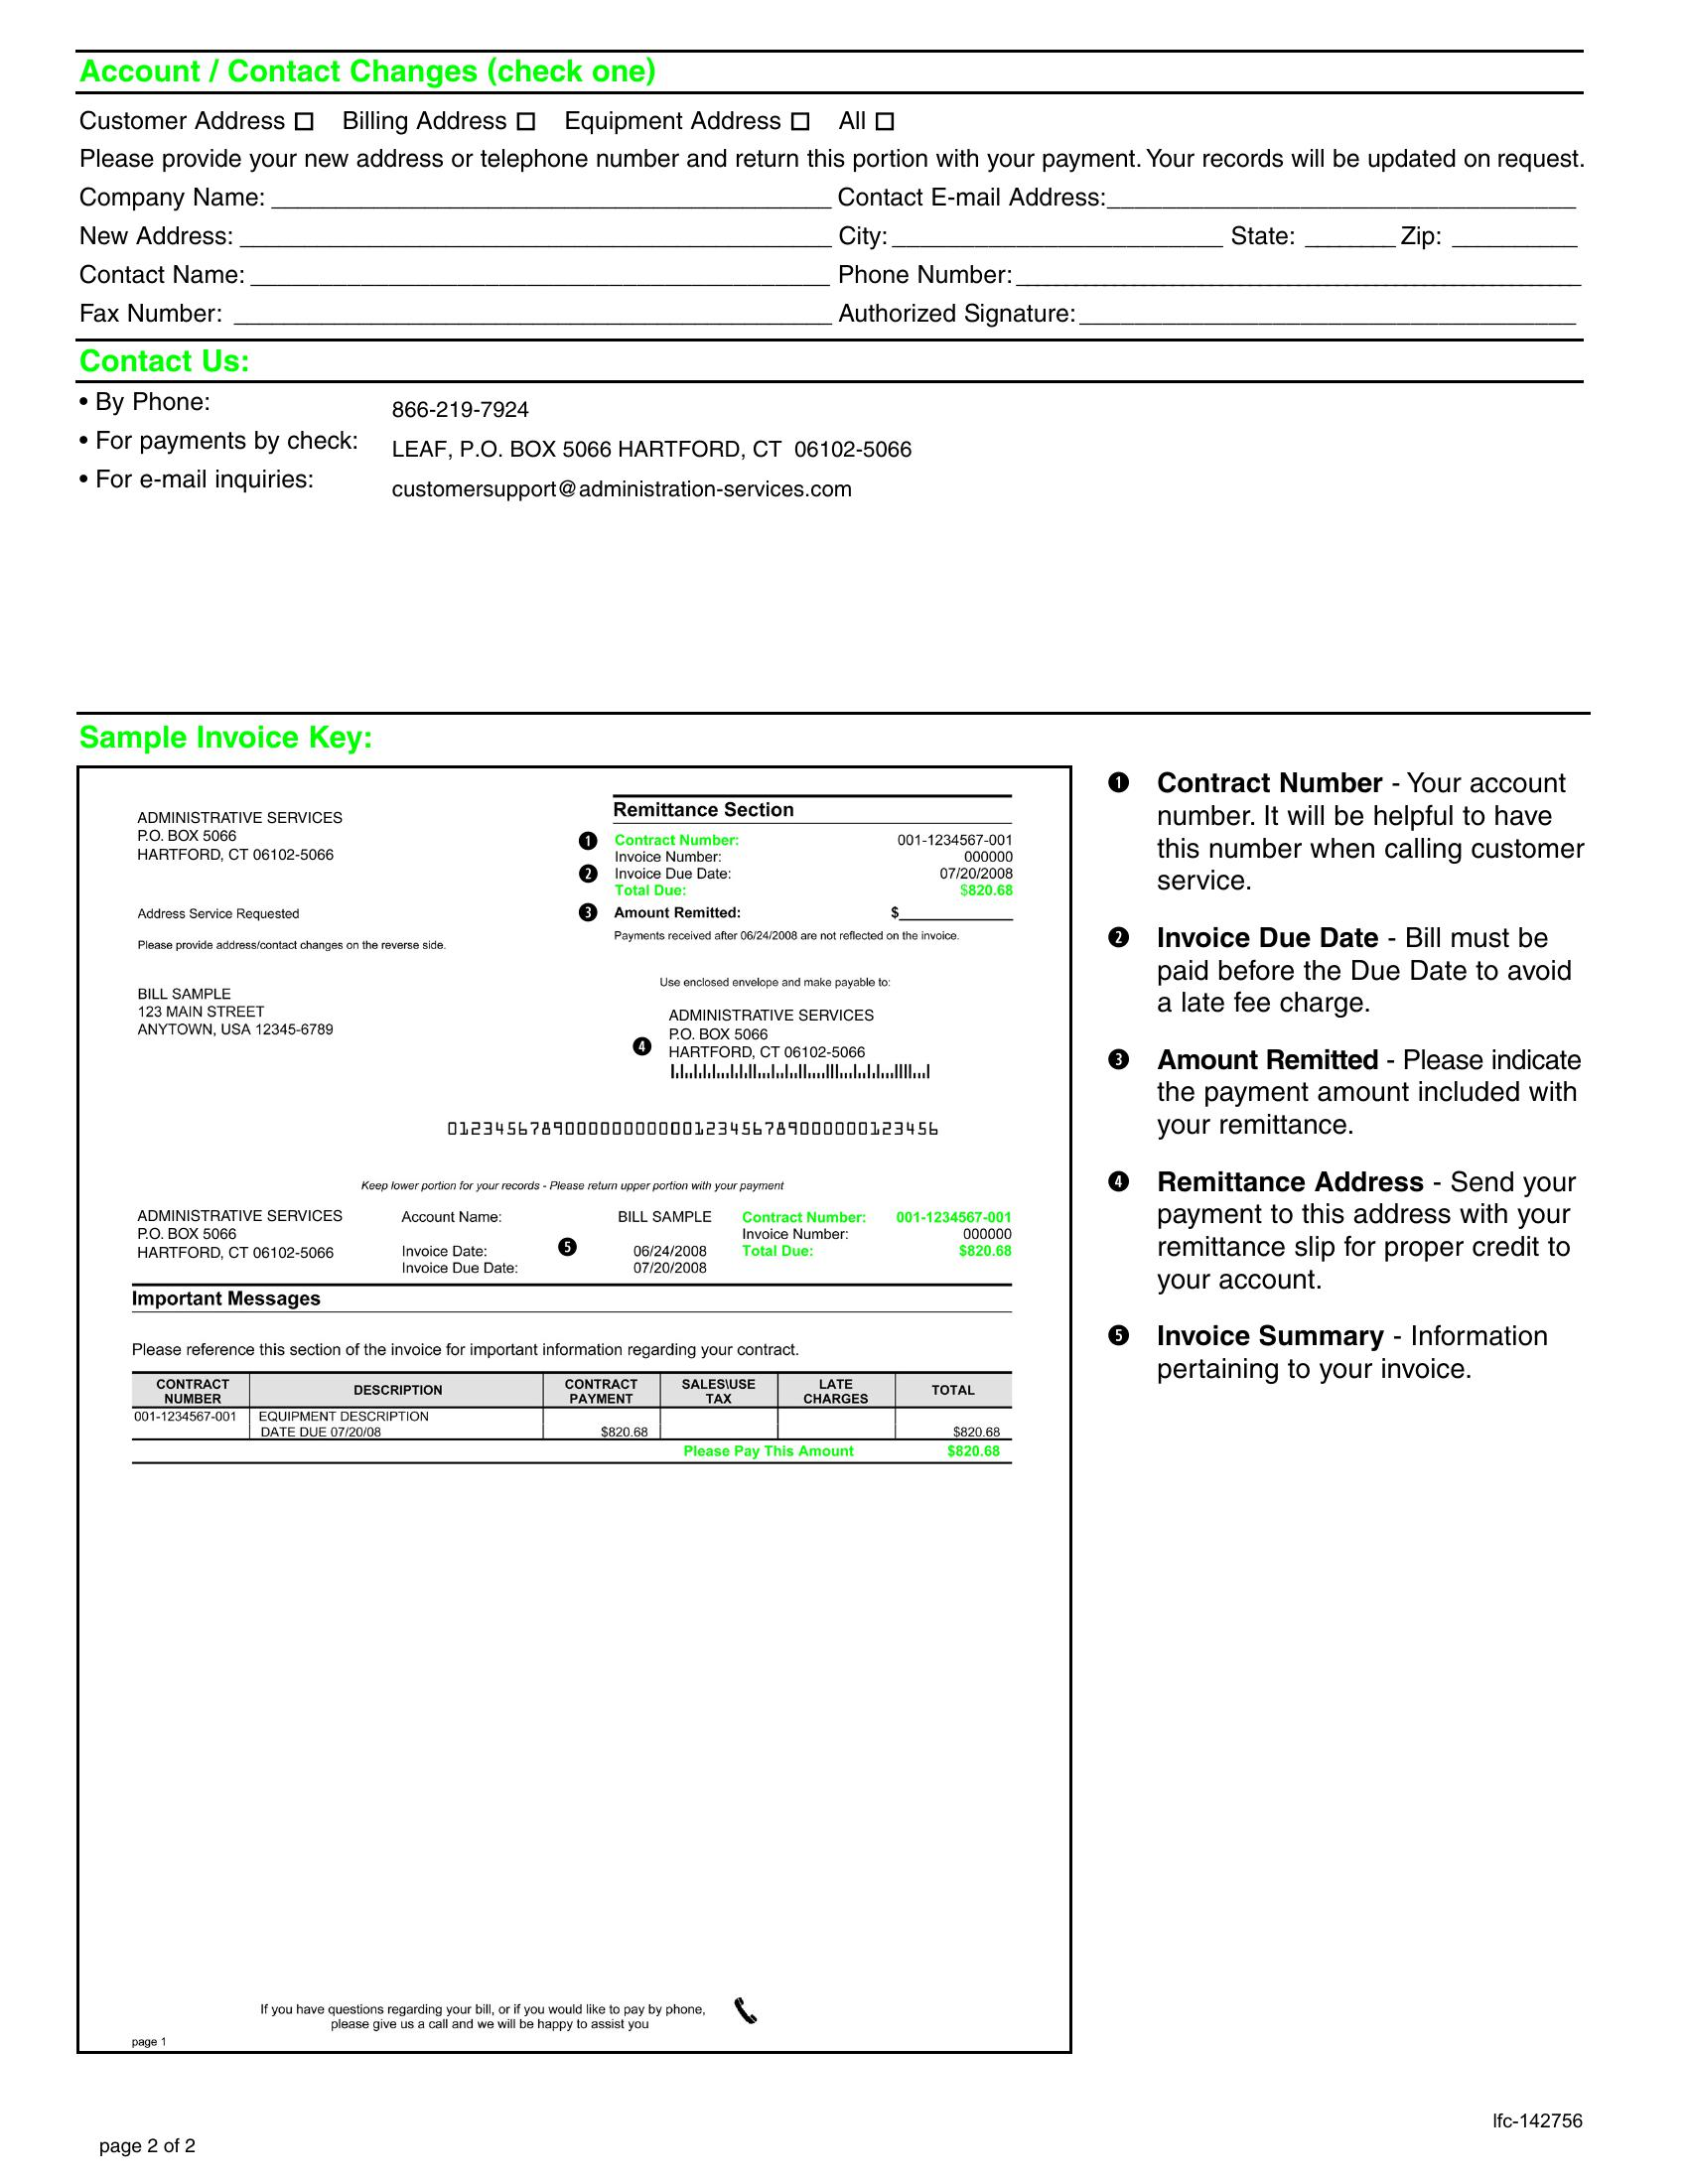table: (122, 1370, 1030, 1477)
